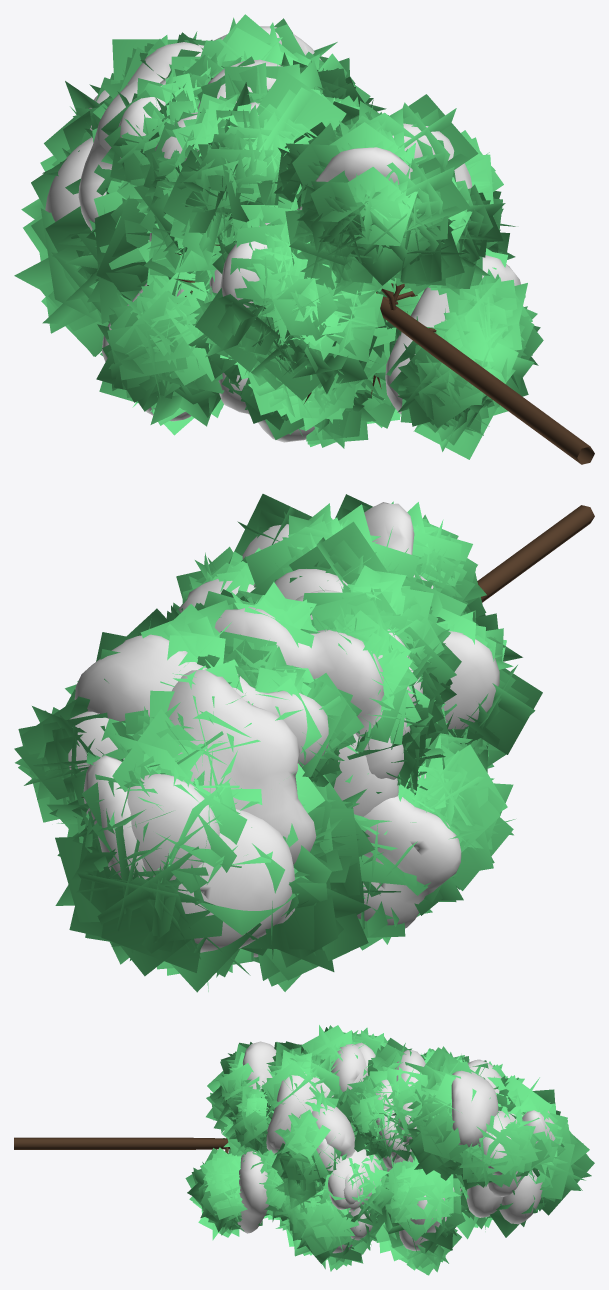
File: Longleaf Pine.fbx
3 renders of one model, top to bottom at view 1: azimuth 30°, elevation 25°; view 2: azimuth 150°, elevation 25°; view 3: azimuth 270°, elevation 25°, orthographic. The views are drawn at different scales.
Visible parts, largest first — view 1: Longleaf Pine 3 LOD 0, Longleaf Pine 2 LOD 0, Longleaf Pine 1 LOD 0, Longleaf Pine 5 LOD 0, Longleaf Pine 6 LOD 0, Longleaf Pine 4 LOD 0, Longleaf Pine Snow 3, Longleaf Pine Snow 5, Longleaf Pine Snow 2, Longleaf Pine Snow 4, Longleaf Pine Snow 1, Longleaf Pine Snow 6; view 2: Longleaf Pine 2 LOD 0, Longleaf Pine 1 LOD 0, Longleaf Pine Snow 5, Longleaf Pine Snow 2, Longleaf Pine 5 LOD 0, Longleaf Pine 4 LOD 0, Longleaf Pine Snow 1, Longleaf Pine Snow 4, Longleaf Pine 6 LOD 0, Longleaf Pine 3 LOD 0, Longleaf Pine Snow 6, Longleaf Pine Snow 3; view 3: Longleaf Pine 2 LOD 0, Longleaf Pine 1 LOD 0, Longleaf Pine 3 LOD 0, Longleaf Pine 4 LOD 0, Longleaf Pine 5 LOD 0, Longleaf Pine Snow 1, Longleaf Pine Snow 5, Longleaf Pine Snow 3, Longleaf Pine Snow 4, Longleaf Pine Snow 2, Longleaf Pine 6 LOD 0, Longleaf Pine Snow 6.
Part boxes in pixels (left/top/right/bottom): Longleaf Pine 3 LOD 0: left=212, top=91, right=594, bottom=464; Longleaf Pine 2 LOD 0: left=14, top=56, right=400, bottom=435; Longleaf Pine 1 LOD 0: left=44, top=14, right=548, bottom=433; Longleaf Pine 5 LOD 0: left=65, top=31, right=397, bottom=400; Longleaf Pine 6 LOD 0: left=144, top=97, right=396, bottom=397; Longleaf Pine 4 LOD 0: left=60, top=53, right=515, bottom=448; Longleaf Pine Snow 3: left=209, top=147, right=520, bottom=414; Longleaf Pine Snow 5: left=78, top=42, right=282, bottom=241; Longleaf Pine Snow 2: left=45, top=115, right=258, bottom=421; Longleaf Pine Snow 4: left=89, top=77, right=314, bottom=442; Longleaf Pine Snow 1: left=175, top=26, right=472, bottom=296; Longleaf Pine Snow 6: left=220, top=223, right=269, bottom=307; Longleaf Pine 2 LOD 0: left=14, top=521, right=515, bottom=992; Longleaf Pine 1 LOD 0: left=47, top=494, right=552, bottom=893; Longleaf Pine Snow 5: left=167, top=579, right=403, bottom=864; Longleaf Pine Snow 2: left=68, top=569, right=461, bottom=957; Longleaf Pine 5 LOD 0: left=102, top=548, right=445, bottom=902; Longleaf Pine 4 LOD 0: left=73, top=546, right=436, bottom=977; Longleaf Pine Snow 1: left=74, top=524, right=425, bottom=879; Longleaf Pine Snow 4: left=127, top=674, right=410, bottom=880; Longleaf Pine 6 LOD 0: left=221, top=580, right=542, bottom=795; Longleaf Pine 3 LOD 0: left=238, top=494, right=594, bottom=772; Longleaf Pine Snow 6: left=334, top=631, right=499, bottom=818; Longleaf Pine Snow 3: left=364, top=502, right=433, bottom=588; Longleaf Pine 2 LOD 0: left=274, top=1025, right=594, bottom=1275; Longleaf Pine 1 LOD 0: left=63, top=1033, right=567, bottom=1223; Longleaf Pine 3 LOD 0: left=14, top=1042, right=410, bottom=1240; Longleaf Pine 4 LOD 0: left=271, top=1027, right=561, bottom=1239; Longleaf Pine 5 LOD 0: left=276, top=1033, right=524, bottom=1254; Longleaf Pine Snow 1: left=266, top=1042, right=559, bottom=1197; Longleaf Pine Snow 5: left=312, top=1044, right=503, bottom=1240; Longleaf Pine Snow 3: left=237, top=1041, right=413, bottom=1233; Longleaf Pine Snow 4: left=316, top=1111, right=549, bottom=1224; Longleaf Pine Snow 2: left=331, top=1044, right=522, bottom=1253; Longleaf Pine 6 LOD 0: left=339, top=1079, right=403, bottom=1157; Longleaf Pine Snow 6: left=376, top=1108, right=406, bottom=1171.
Size of what is drawn, in the model's own units: 2374 by 2212 by 5187.
